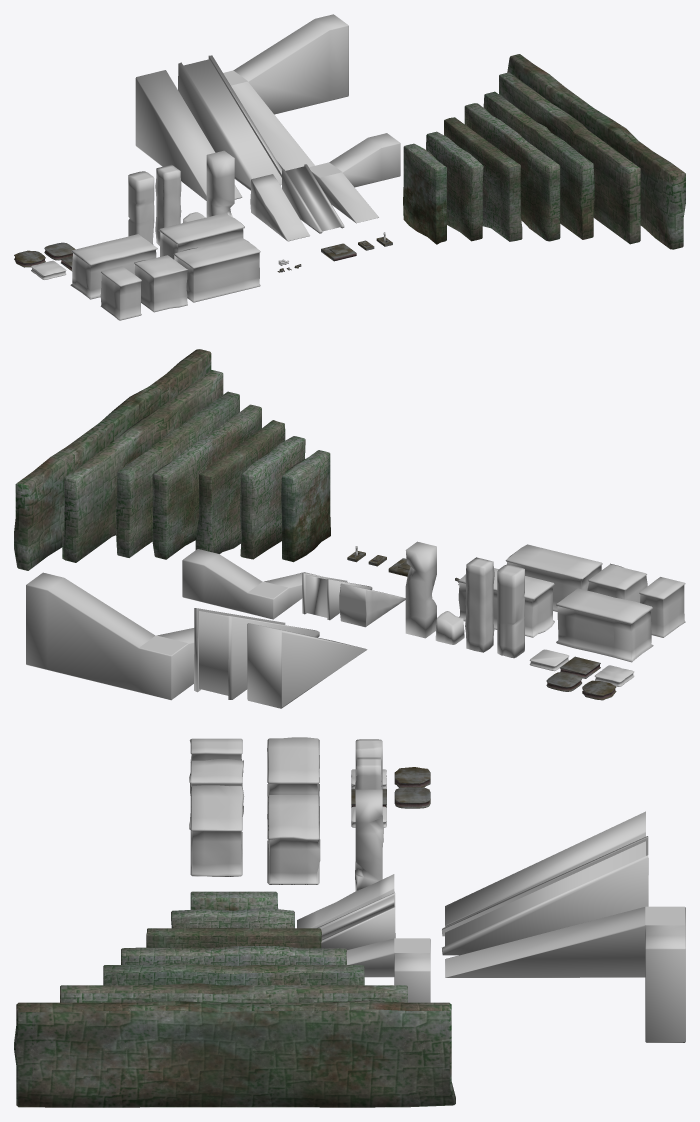
The model's file is Alpacas_models7.FBX.
3 views of the same model, one above another, from view 1: azimuth 30°, elevation 25°; view 2: azimuth 150°, elevation 25°; view 3: azimuth 270°, elevation 25° (orthographic). The views are drawn at different scales.
Parts seen in each view (by area): view 1: ramp006, Wall_7, Wall_6, ramp004, ramp005, Wall_4, Wall_5, ramp2, Wall_3, PuzzlePlatform003, Wall_1, Wall_2 (+10 smaller); view 2: ramp006, Wall_7, Wall_6, Wall_4, ramp005, Wall_5, ScaleEnd, Wall_3, ramp2, ramp004, Wall_1, Wall_2 (+14 smaller); view 3: Wall_7, ramp006, ramp004, Wall_6, Wall_5, PuzzlePlatform003, ramp005, ScaleEnd2, Wall_4, ramp2, Wall_3, ScaleEnd (+11 smaller).
Boxes of the visible parts, <box> form: ramp006: <box>223,14,348,170</box>; Wall_7: <box>507,54,685,249</box>; Wall_6: <box>499,72,640,244</box>; ramp004: <box>178,55,282,190</box>; ramp005: <box>135,70,242,200</box>; Wall_4: <box>464,103,560,241</box>; Wall_5: <box>483,91,594,239</box>; ramp2: <box>309,133,400,223</box>; Wall_3: <box>444,117,522,241</box>; PuzzlePlatform003: <box>173,237,260,302</box>; Wall_1: <box>403,143,446,244</box>; Wall_2: <box>426,131,483,241</box>; ramp006: <box>26,572,194,700</box>; Wall_7: <box>14,349,211,570</box>; Wall_6: <box>62,370,223,562</box>; Wall_4: <box>152,404,261,559</box>; ramp005: <box>247,623,367,708</box>; Wall_5: <box>116,391,239,557</box>; ScaleEnd: <box>555,588,653,662</box>; Wall_3: <box>195,420,285,553</box>; ramp2: <box>182,549,320,619</box>; ramp004: <box>194,608,319,699</box>; Wall_1: <box>281,450,330,562</box>; Wall_2: <box>240,436,305,559</box>; Wall_7: <box>14,1000,455,1107</box>; ramp006: <box>445,906,685,1042</box>; ramp004: <box>442,836,648,955</box>; Wall_6: <box>60,983,407,1002</box>; Wall_5: <box>103,963,364,985</box>; PuzzlePlatform003: <box>190,785,244,876</box>; ramp005: <box>445,811,645,926</box>; ScaleEnd2: <box>267,795,320,884</box>; Wall_4: <box>121,946,346,966</box>; ramp2: <box>347,938,430,1002</box>; Wall_3: <box>146,928,321,948</box>; ScaleEnd: <box>267,737,319,820</box>.
Size of the model in its own units: 1809 by 268 by 1520.
